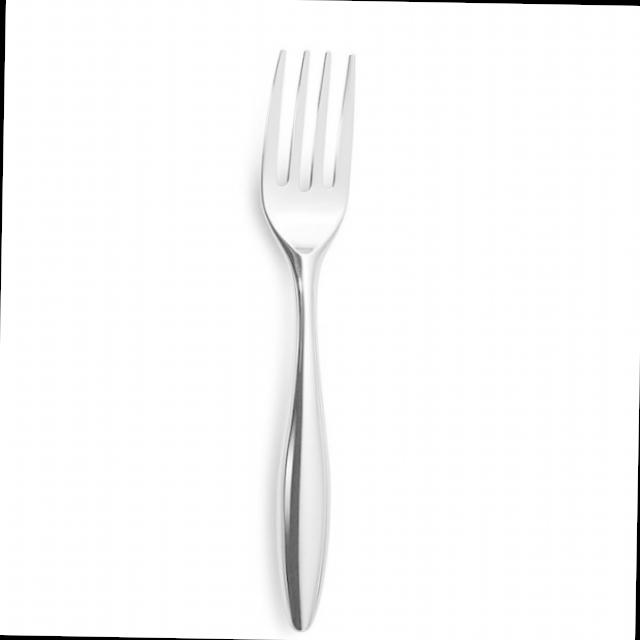fork: (250, 41, 360, 634)
